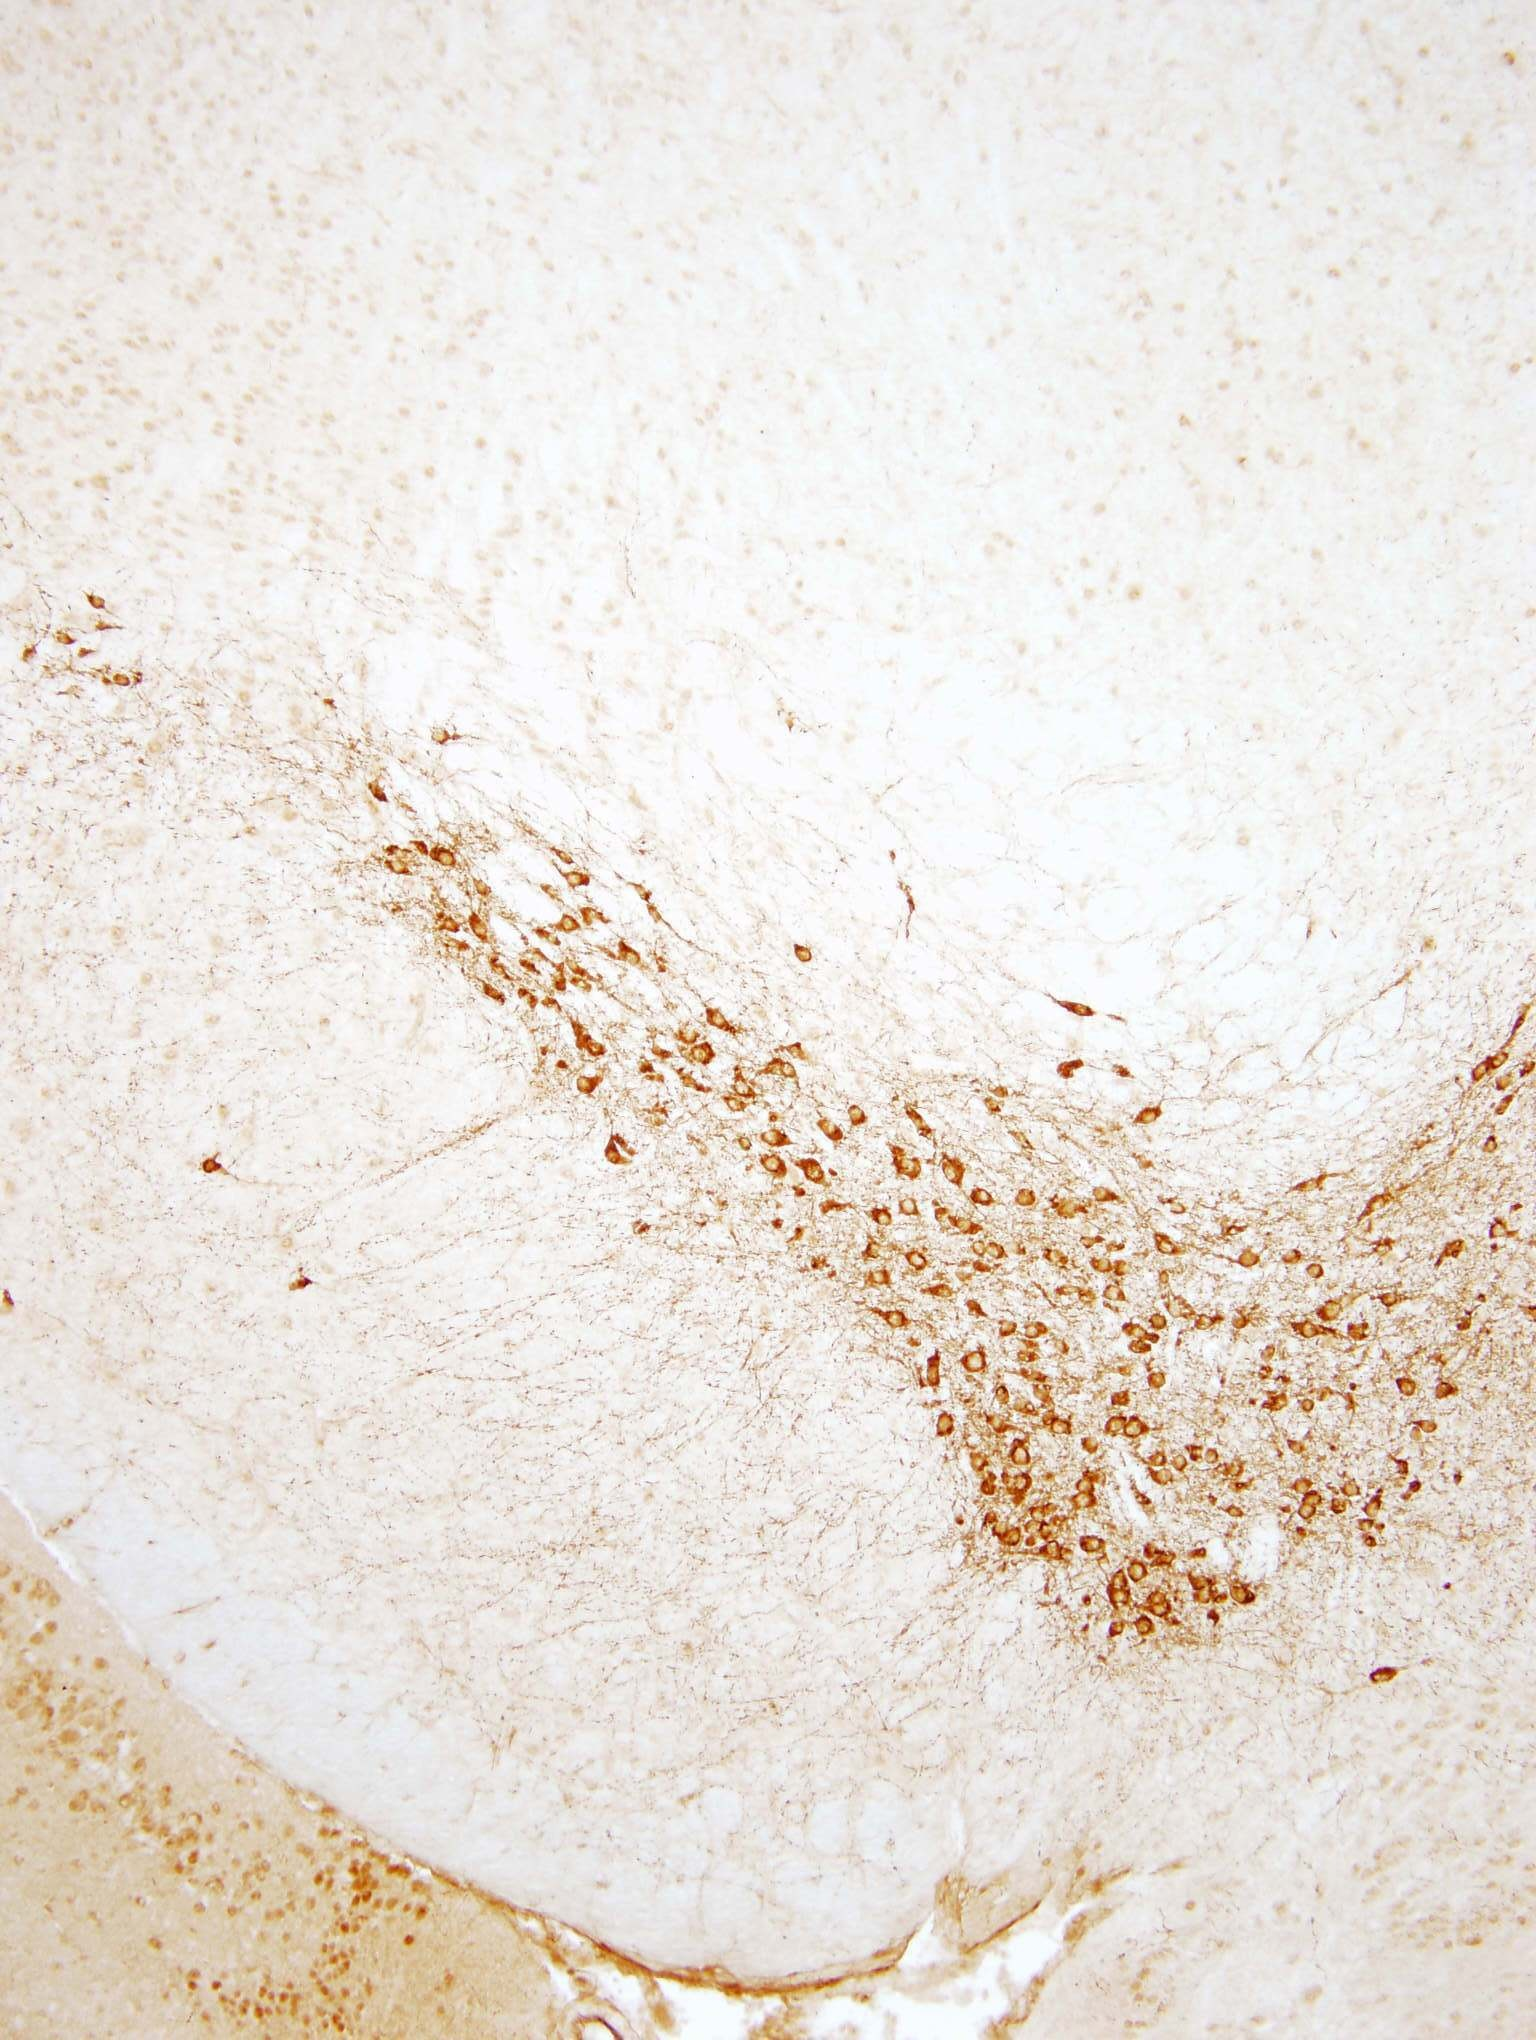neuron: (579, 893, 616, 930), (891, 1148, 928, 1185), (958, 1347, 995, 1384), (1008, 1180, 1044, 1218), (1063, 989, 1100, 1024), (1134, 1098, 1170, 1135), (1226, 1579, 1263, 1614), (1229, 1303, 1267, 1338), (1252, 1327, 1288, 1364), (1297, 1256, 1334, 1292), (1297, 1314, 1334, 1350), (1367, 1659, 1402, 1697), (1367, 1230, 1404, 1266), (1483, 1209, 1518, 1247), (381, 860, 416, 897), (553, 905, 589, 942), (687, 1035, 723, 1072), (702, 998, 737, 1035), (866, 1256, 902, 1293), (899, 1242, 936, 1277), (916, 1355, 952, 1392), (928, 1409, 963, 1447), (936, 1151, 971, 1189), (1052, 1190, 1087, 1226), (1092, 1172, 1128, 1208), (1129, 1142, 1165, 1177), (1150, 1227, 1186, 1263), (1157, 1184, 1192, 1219), (1233, 1247, 1268, 1282), (1271, 1239, 1307, 1274), (1292, 1163, 1328, 1198), (1315, 1292, 1350, 1327), (1341, 1314, 1376, 1350), (1357, 1185, 1392, 1221), (1375, 1284, 1410, 1319), (360, 771, 395, 806), (428, 840, 463, 876), (431, 714, 466, 750), (431, 908, 466, 943), (465, 908, 500, 943), (563, 858, 599, 893), (611, 937, 647, 972), (673, 1014, 708, 1050), (755, 1147, 791, 1182), (757, 1114, 792, 1150), (794, 1151, 829, 1187), (813, 1113, 849, 1148), (841, 1097, 876, 1132), (874, 1301, 910, 1337), (966, 1179, 1002, 1214), (1000, 1526, 1025, 1550), (1008, 1472, 1033, 1497), (1016, 1345, 1041, 1369), (1020, 1519, 1044, 1543), (1025, 1319, 1049, 1343), (1037, 1522, 1062, 1547), (1037, 1405, 1062, 1429), (1042, 1543, 1066, 1567), (1046, 1248, 1070, 1272), (1049, 1509, 1073, 1534), (1050, 1414, 1075, 1438), (1058, 1276, 1083, 1300), (1073, 1493, 1097, 1518), (1075, 1472, 1099, 1497), (1078, 1230, 1102, 1255), (1078, 1432, 1102, 1456), (1081, 1534, 1105, 1558), (1091, 1464, 1115, 1488), (1092, 1253, 1117, 1277), (1104, 1280, 1128, 1305), (1105, 1232, 1129, 1256), (1105, 1587, 1129, 1611), (1108, 1619, 1133, 1643), (1112, 1064, 1136, 1089), (1112, 1385, 1136, 1409), (1123, 1318, 1147, 1342), (1129, 1338, 1154, 1363), (1134, 1616, 1158, 1640), (1142, 1538, 1167, 1563), (1146, 1311, 1170, 1335), (1146, 1447, 1170, 1471), (1147, 1584, 1171, 1608), (1150, 1601, 1175, 1626), (1155, 1268, 1179, 1292), (1155, 1551, 1179, 1576), (1167, 1297, 1191, 1321), (1168, 1451, 1192, 1476), (1184, 1440, 1208, 1464), (1187, 1567, 1212, 1592), (1192, 1314, 1217, 1338), (1199, 1443, 1223, 1468), (1223, 1451, 1247, 1476), (1225, 1503, 1249, 1527), (1270, 1393, 1294, 1418), (1283, 1437, 1307, 1461), (1294, 1397, 1318, 1421), (1339, 1480, 1363, 1505), (1359, 1514, 1383, 1538), (1363, 1495, 1388, 1519), (1394, 1376, 1418, 1400), (1430, 1347, 1454, 1371), (1433, 1377, 1457, 1401), (1480, 1134, 1504, 1158), (1489, 1047, 1513, 1071), (1492, 1069, 1517, 1093), (471, 877, 495, 901), (486, 955, 510, 979), (516, 989, 541, 1013), (539, 876, 563, 900), (560, 951, 584, 976), (566, 976, 591, 1000), (603, 1143, 628, 1168), (723, 1095, 747, 1119), (731, 1076, 755, 1100), (774, 1061, 799, 1085), (794, 942, 818, 966), (862, 1237, 886, 1261), (871, 1208, 895, 1232), (933, 1280, 957, 1305), (933, 1206, 957, 1230), (954, 1213, 978, 1237), (962, 1297, 986, 1321), (966, 1239, 991, 1263), (966, 1450, 991, 1474), (983, 1098, 1007, 1122), (986, 1239, 1010, 1263), (991, 1080, 1015, 1105), (992, 1385, 1016, 1409), (995, 1318, 1020, 1342), (1007, 1239, 1029, 1263), (1012, 1447, 1034, 1471), (1105, 1413, 1129, 1435), (1105, 1571, 1129, 1593), (1113, 1255, 1137, 1277), (1128, 1564, 1150, 1588), (1146, 1371, 1170, 1393), (1154, 1468, 1176, 1492), (1233, 1477, 1255, 1501), (1254, 1363, 1278, 1385), (1297, 1500, 1321, 1522), (1313, 1384, 1338, 1406), (1329, 1500, 1354, 1522), (1417, 1413, 1441, 1435), (1467, 1056, 1489, 1080), (1496, 1095, 1518, 1119), (557, 842, 581, 864), (576, 1076, 600, 1098), (586, 1037, 608, 1061), (734, 1134, 758, 1156), (899, 1195, 921, 1219), (481, 984, 503, 1006), (786, 1042, 808, 1064)
